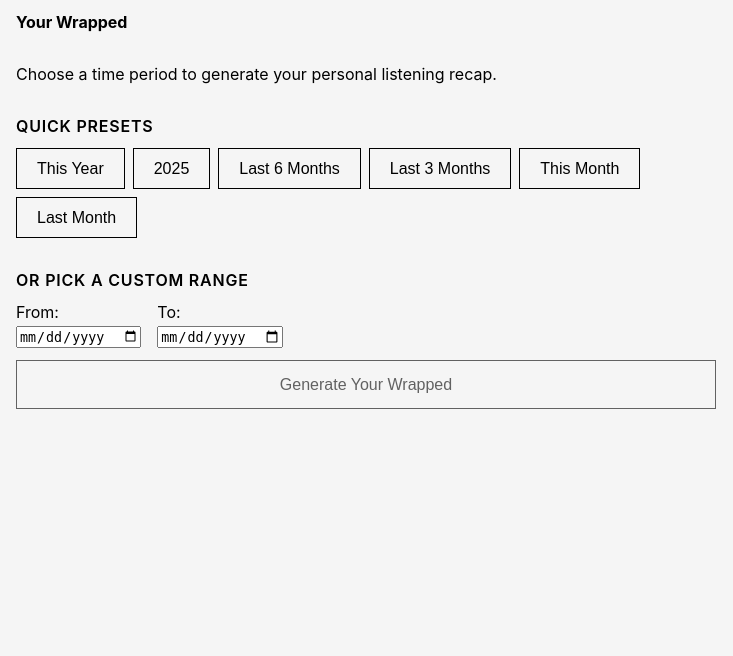
Test: WrappedPage › should show no data message when totalScrobbles is 0
Step 1. Click the button "This Year" → click(70, 169), box top-left (16, 148), bottom-right (125, 189)
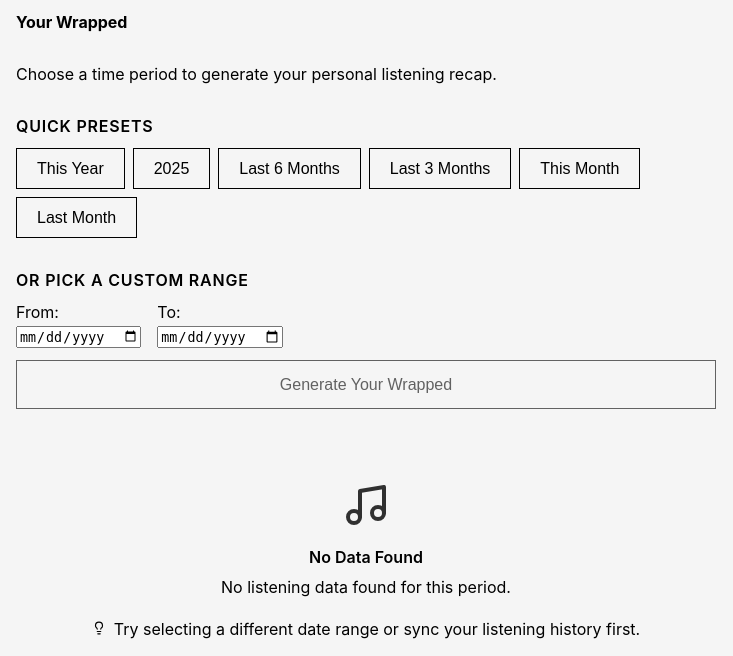
Check: the text "No listening data found for this period." is shown, box top-left (221, 575), bottom-right (511, 599)
